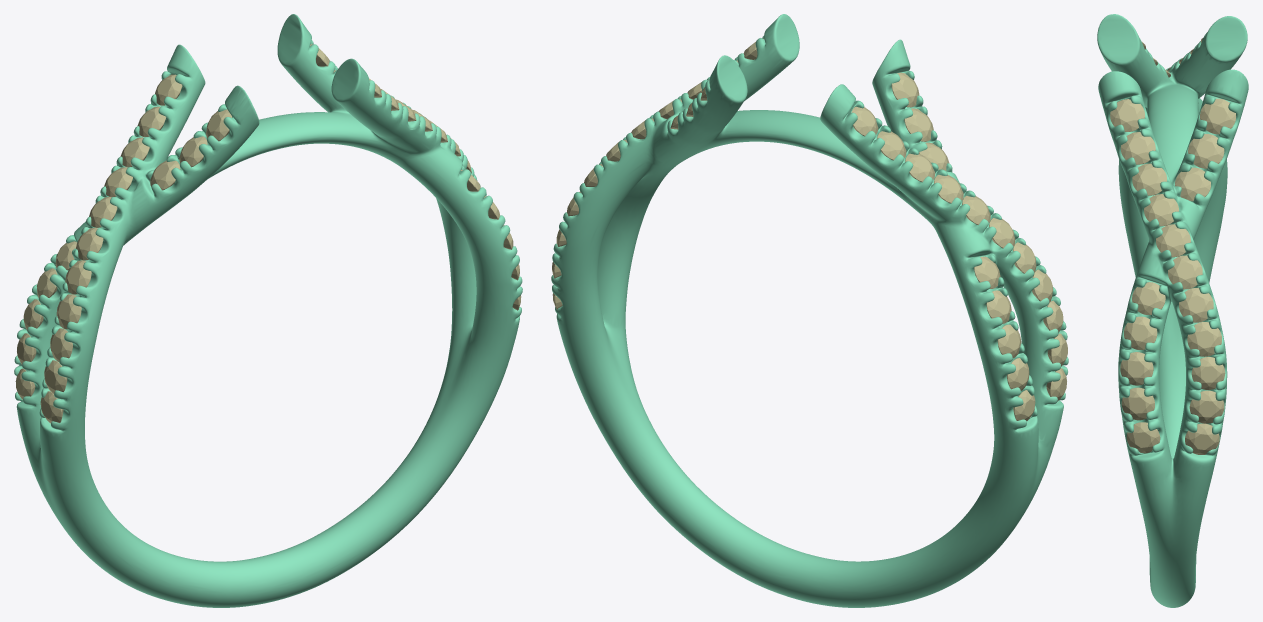
3 renders of one model, left to right at view 1: azimuth 30°, elevation 25°; view 2: azimuth 150°, elevation 25°; view 3: azimuth 270°, elevation 25°, orthographic.
Visible parts, largest first — view 1: Metal02; view 2: Metal02; view 3: Metal02, Diamond_Gem.009, Diamond_Gem.008, Diamond_Gem, Diamond_Gem.007, Diamond_Gem.012, Diamond_Gem.013, Diamond_Gem.017, Diamond_Gem.018, Diamond_Gem.011, Diamond_Gem.014, Diamond_Gem.004 (+8 smaller).
Boxes of the visible parts, <box> form: Metal02: <box>14,14,522,607</box>; Metal02: <box>551,14,1068,607</box>; Metal02: <box>1097,14,1248,607</box>; Diamond_Gem.009: <box>1200,98,1236,134</box>; Diamond_Gem.008: <box>1188,134,1224,168</box>; Diamond_Gem: <box>1187,322,1221,356</box>; Diamond_Gem.007: <box>1175,167,1210,201</box>; Diamond_Gem.012: <box>1179,288,1213,322</box>; Diamond_Gem.013: <box>1168,255,1202,289</box>; Diamond_Gem.017: <box>1120,132,1155,164</box>; Diamond_Gem.018: <box>1110,99,1144,131</box>; Diamond_Gem.011: <box>1189,390,1224,423</box>; Diamond_Gem.014: <box>1156,224,1190,257</box>; Diamond_Gem.004: <box>1120,352,1153,385</box>.
Size of the model in its own units: 20.95 by 23.08 by 5.86.
